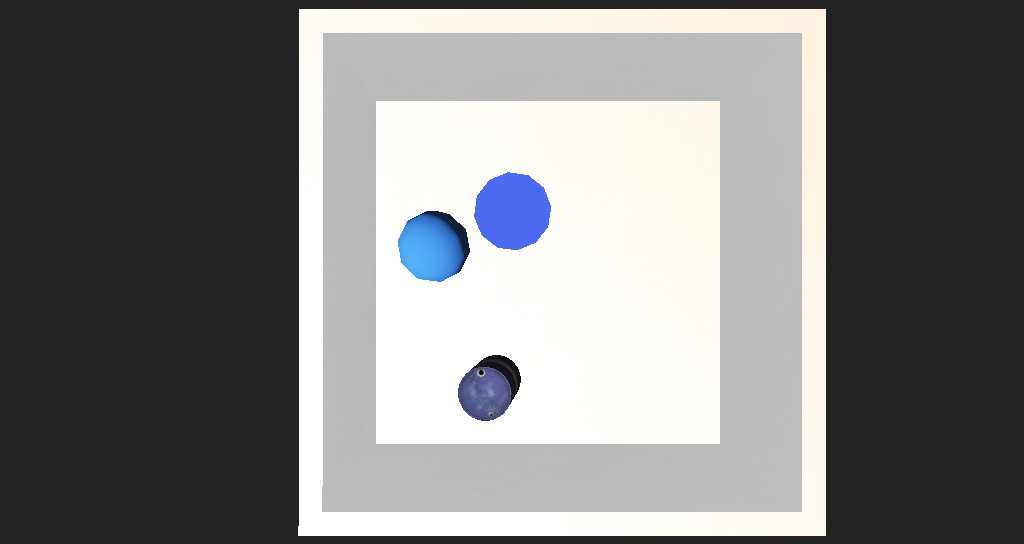cone: (424, 320, 478, 358)
cylinder: (424, 200, 505, 258)
sphere: (371, 231, 438, 274)
